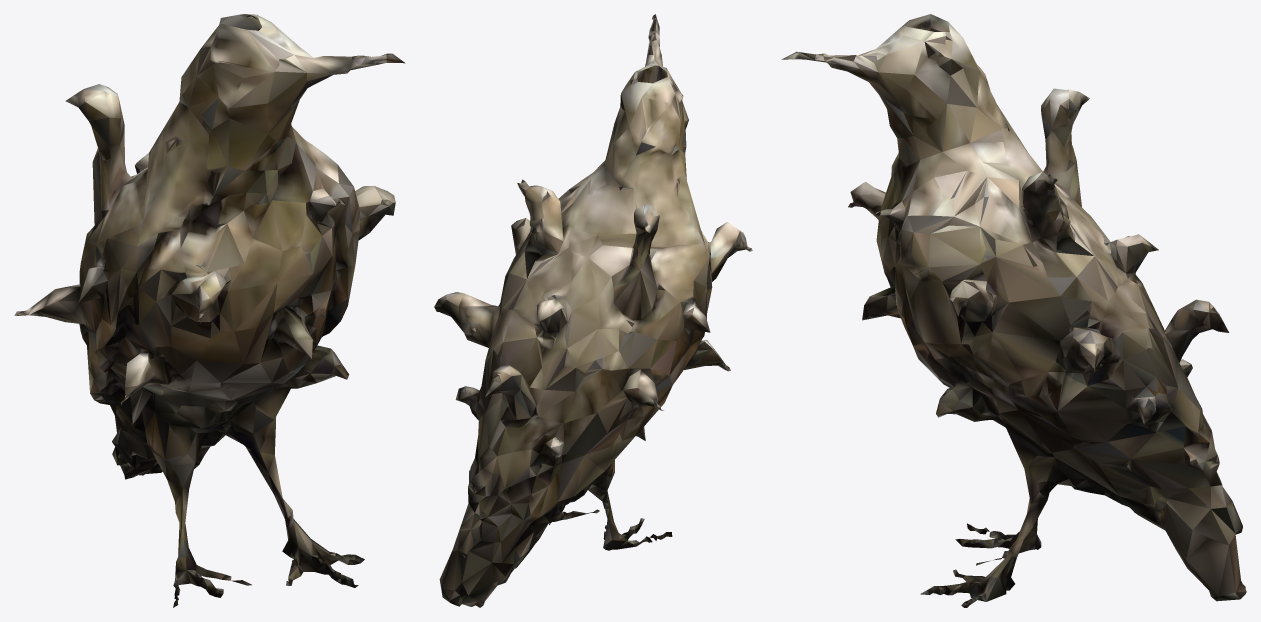
The model's file is st_bird_multi_header.glb.
3 views of the same model, side by side, from view 1: azimuth 30°, elevation 25°; view 2: azimuth 150°, elevation 25°; view 3: azimuth 270°, elevation 25° (orthographic). The views are drawn at different scales.
Parts seen in each view (by area): view 1: bird_nest; view 2: bird_nest; view 3: bird_nest.
Part boxes in pixels (box(x1,y1,x2,y2)): bird_nest: box(14, 14, 405, 607); bird_nest: box(434, 14, 752, 607); bird_nest: box(781, 14, 1246, 607).
Size of the model in its own units: 4.44 by 8 by 6.29.
Materials: 1 (1 with a texture image).
